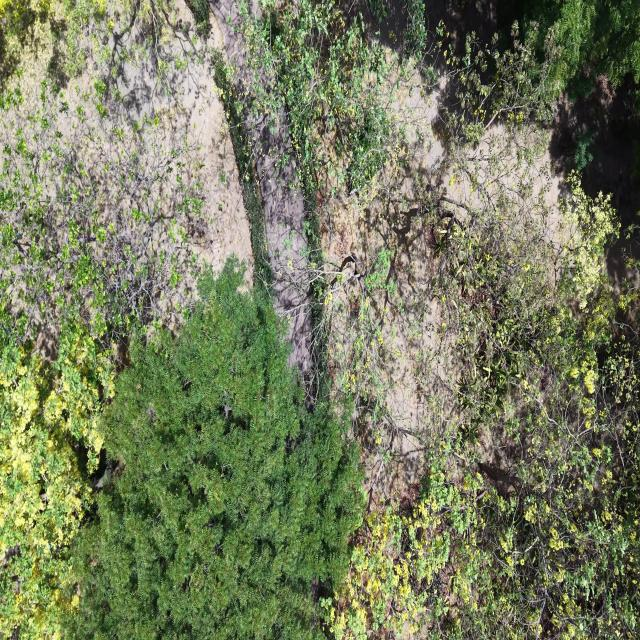DRY_AREA: (320, 73, 574, 503), (321, 74, 566, 504), (319, 72, 479, 501), (47, 0, 253, 325), (59, 0, 254, 296), (321, 73, 444, 506), (108, 0, 253, 284), (550, 76, 639, 285), (243, 110, 312, 378), (244, 110, 313, 374)
PATHWAYS: (243, 110, 311, 378)
VEGETATION_TREE: (0, 0, 639, 639), (323, 38, 638, 638), (323, 176, 639, 639), (0, 2, 209, 638), (0, 82, 202, 638), (68, 261, 361, 638), (313, 25, 552, 444), (0, 79, 205, 348), (0, 308, 113, 639), (240, 0, 397, 198), (486, 0, 639, 97), (523, 0, 639, 94), (0, 0, 108, 89), (0, 0, 50, 88)
